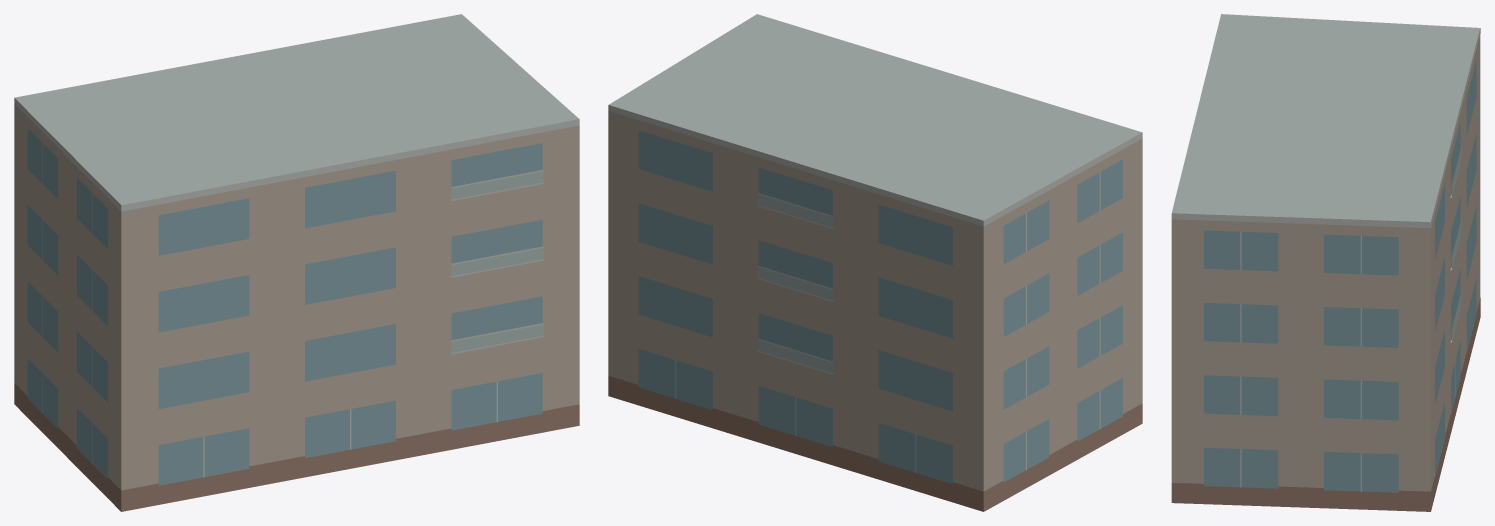
File: survey-upis-32769344.glb
The picture shows the model from 3 angles, left to right: view 1: azimuth 30°, elevation 25°; view 2: azimuth 150°, elevation 25°; view 3: azimuth 270°, elevation 25°; orthographic projection. The views are drawn at different scales.
Parts seen in each view (by area): view 1: survey-upis-32769344.tmp; view 2: survey-upis-32769344.tmp; view 3: survey-upis-32769344.tmp.
Boxes of the visible parts, x1=… form: survey-upis-32769344.tmp: x1=14, y1=14, x2=579, y2=511; survey-upis-32769344.tmp: x1=608, y1=14, x2=1142, y2=511; survey-upis-32769344.tmp: x1=1171, y1=14, x2=1480, y2=511.
Size of the model in its own units: 18.19 by 11.8 by 11.41.
